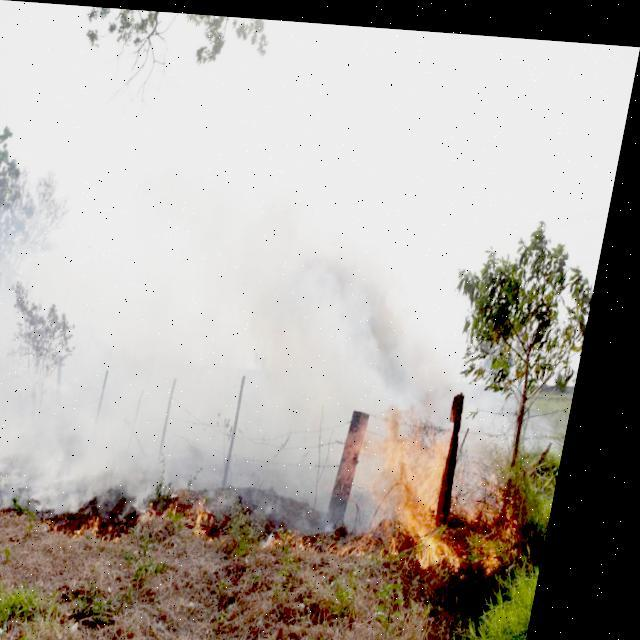Fire: (345, 396, 551, 560), (208, 492, 232, 532)
